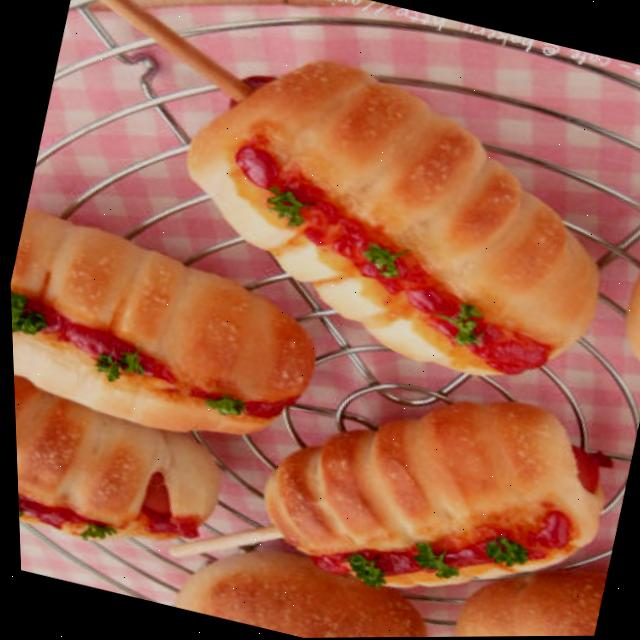三明治: (143, 35, 640, 414), (229, 351, 631, 639), (6, 210, 334, 470), (11, 361, 238, 575)
